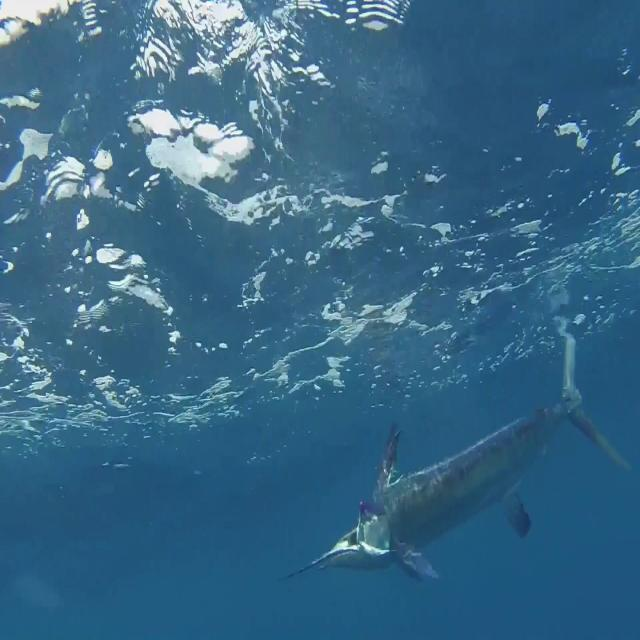Spear Fish: (277, 332, 632, 586)
